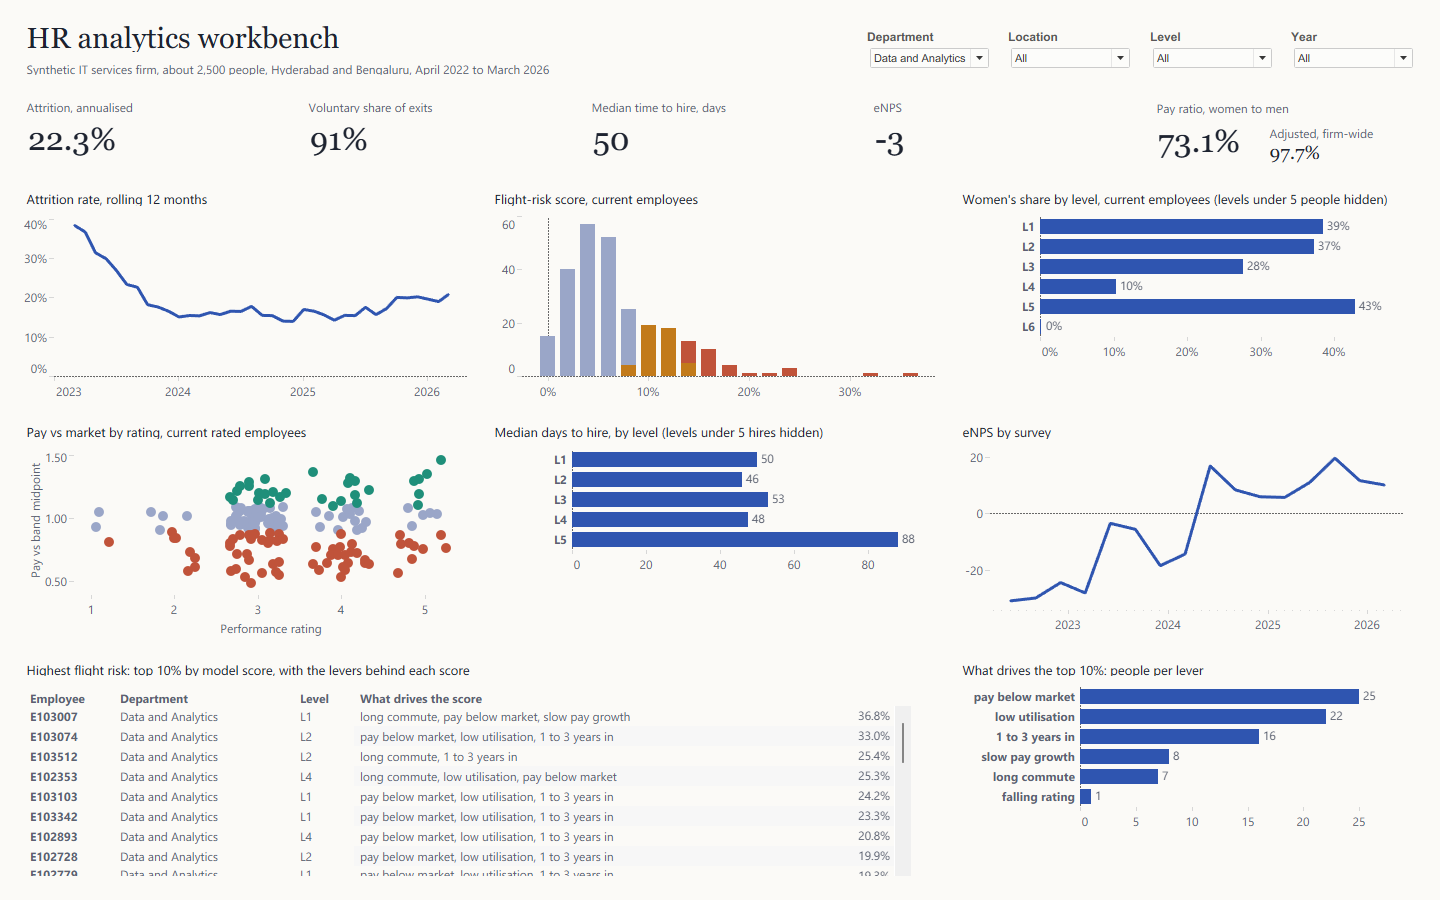

Layout of this report page (visuals, bound fields, positions):
{"tool":"tableau","page":{"name":"Workbench","canvas":[1440,900],"ordinal":0},"visuals":[{"type":"text","box":[24,14,800,36]},{"type":"parameter","param":"[Parameters].[Parameter 1]","box":[860,20,132,56]},{"type":"parameter","param":"[Parameters].[Parameter 2]","box":[1000,20,132,56]},{"type":"parameter","param":"[Parameters].[Parameter 3]","box":[1140,20,132,56]},{"type":"parameter","param":"[Parameters].[Parameter 4]","box":[1280,20,132,56]},{"type":"text","box":[24,52,800,22]},{"type":"text","box":[24,92,260,22]},{"type":"text","box":[304,92,260,22]},{"type":"text","box":[584,92,260,22]},{"type":"text","box":[864,92,260,22]},{"type":"text","box":[1144,92,260,22]},{"type":"worksheet","title":"KPI attrition","mark":"Text","box":[24,112,260,56]},{"type":"worksheet","title":"KPI voluntary","mark":"Text","box":[304,112,260,56]},{"type":"worksheet","title":"KPI time to hire","mark":"Text","box":[584,112,260,56]},{"type":"worksheet","title":"KPI eNPS","mark":"Text","box":[864,112,260,56]},{"type":"worksheet","title":"KPI pay ratio","mark":"Text","box":[1144,112,112,56]},{"type":"text","box":[1256,116,148,48]},{"type":"text","box":[24,184,448,22]},{"type":"text","box":[488,184,448,22]},{"type":"text","box":[952,184,448,22]},{"type":"worksheet","title":"Attrition trend","mark":"Line","rows":["Calc_Attrition12"],"cols":["date"],"box":[24,208,448,200]},{"type":"worksheet","title":"Flight risk","mark":"Bar","rows":["Calc_Employees"],"cols":["Calc_RiskBin"],"box":[488,208,448,200]},{"type":"worksheet","title":"Women by level","mark":"Bar","rows":["level"],"cols":["Calc_WomenShare"],"box":[952,208,448,200]},{"type":"text","box":[24,420,448,22]},{"type":"text","box":[488,420,448,22]},{"type":"text","box":[952,420,448,22]},{"type":"worksheet","title":"Pay vs rating","mark":"Circle","rows":["compa_ratio"],"cols":["Calc_RatingJitter"],"box":[24,444,448,200]},{"type":"worksheet","title":"Time to hire","mark":"Bar","rows":["level"],"cols":["Calc_TimeToHireByLevel"],"box":[488,444,448,200]},{"type":"worksheet","title":"eNPS trend","mark":"Line","rows":["Calc_eNPS"],"cols":["date"],"box":[952,444,448,200]},{"type":"text","box":[24,660,912,22]},{"type":"text","box":[952,660,448,22]},{"type":"worksheet","title":"At-risk employees","mark":"Text","rows":["emp_id","department","level","drivers"],"box":[24,684,912,200]},{"type":"worksheet","title":"Risk levers","mark":"Bar","rows":["drivers"],"cols":["Calc_LeverPeople"],"box":[952,684,448,200]}]}

Visuals, with their boxes in screenshot pixels (x1, y1, x2, y2), scaled from the page's 1440x900 canvas onto the 1440x900 screenshot:
text: l=24, t=14, r=824, b=50
parameter: l=860, t=20, r=992, b=76
parameter: l=1000, t=20, r=1132, b=76
parameter: l=1140, t=20, r=1272, b=76
parameter: l=1280, t=20, r=1412, b=76
text: l=24, t=52, r=824, b=74
text: l=24, t=92, r=284, b=114
text: l=304, t=92, r=564, b=114
text: l=584, t=92, r=844, b=114
text: l=864, t=92, r=1124, b=114
text: l=1144, t=92, r=1404, b=114
"KPI attrition" worksheet (Text marks): l=24, t=112, r=284, b=168
"KPI voluntary" worksheet (Text marks): l=304, t=112, r=564, b=168
"KPI time to hire" worksheet (Text marks): l=584, t=112, r=844, b=168
"KPI eNPS" worksheet (Text marks): l=864, t=112, r=1124, b=168
"KPI pay ratio" worksheet (Text marks): l=1144, t=112, r=1256, b=168
text: l=1256, t=116, r=1404, b=164
text: l=24, t=184, r=472, b=206
text: l=488, t=184, r=936, b=206
text: l=952, t=184, r=1400, b=206
"Attrition trend" worksheet (Line marks): l=24, t=208, r=472, b=408
"Flight risk" worksheet (Bar marks): l=488, t=208, r=936, b=408
"Women by level" worksheet (Bar marks): l=952, t=208, r=1400, b=408
text: l=24, t=420, r=472, b=442
text: l=488, t=420, r=936, b=442
text: l=952, t=420, r=1400, b=442
"Pay vs rating" worksheet (Circle marks): l=24, t=444, r=472, b=644
"Time to hire" worksheet (Bar marks): l=488, t=444, r=936, b=644
"eNPS trend" worksheet (Line marks): l=952, t=444, r=1400, b=644
text: l=24, t=660, r=936, b=682
text: l=952, t=660, r=1400, b=682
"At-risk employees" worksheet (Text marks): l=24, t=684, r=936, b=884
"Risk levers" worksheet (Bar marks): l=952, t=684, r=1400, b=884
